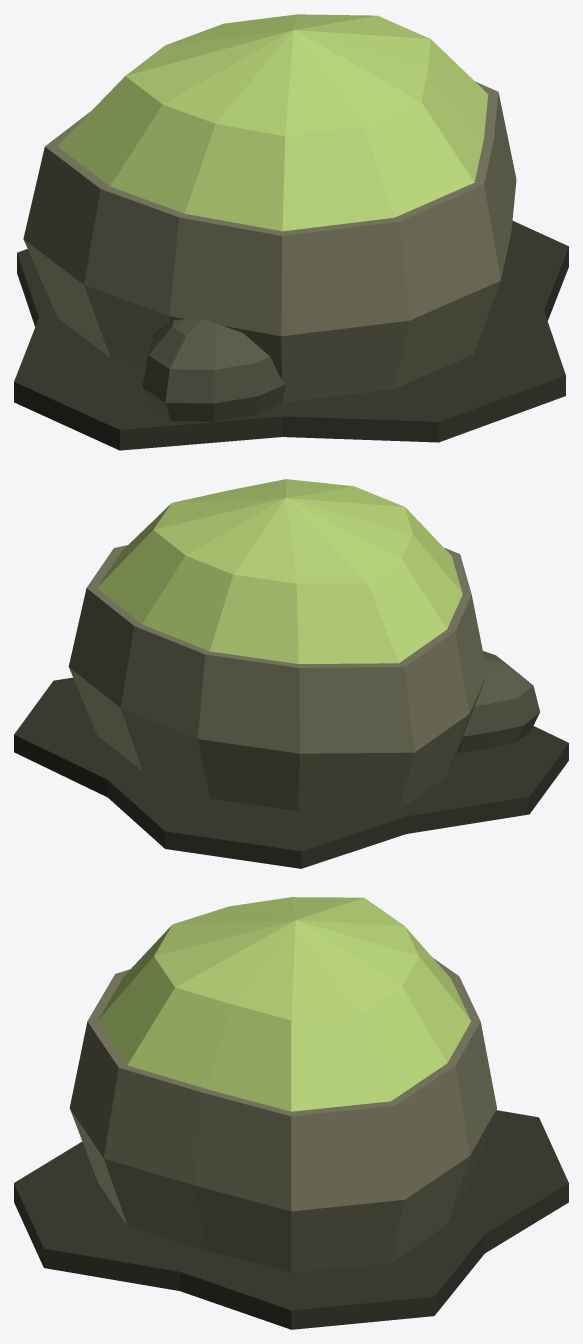
The model's file is eggsac_a.obj.
The picture shows the model from 3 angles, top to bottom: view 1: azimuth 30°, elevation 25°; view 2: azimuth 150°, elevation 25°; view 3: azimuth 270°, elevation 25°; orthographic projection. The views are drawn at different scales.
Parts seen in each view (by area): view 1: eggsac_a; view 2: eggsac_a; view 3: eggsac_a.
Part boxes in pixels (box(x1,y1,x2,y2)): eggsac_a: box(14, 14, 568, 450); eggsac_a: box(14, 479, 568, 868); eggsac_a: box(14, 897, 568, 1329).
Size of the model in its own units: 0.8467 by 0.44 by 0.779.
